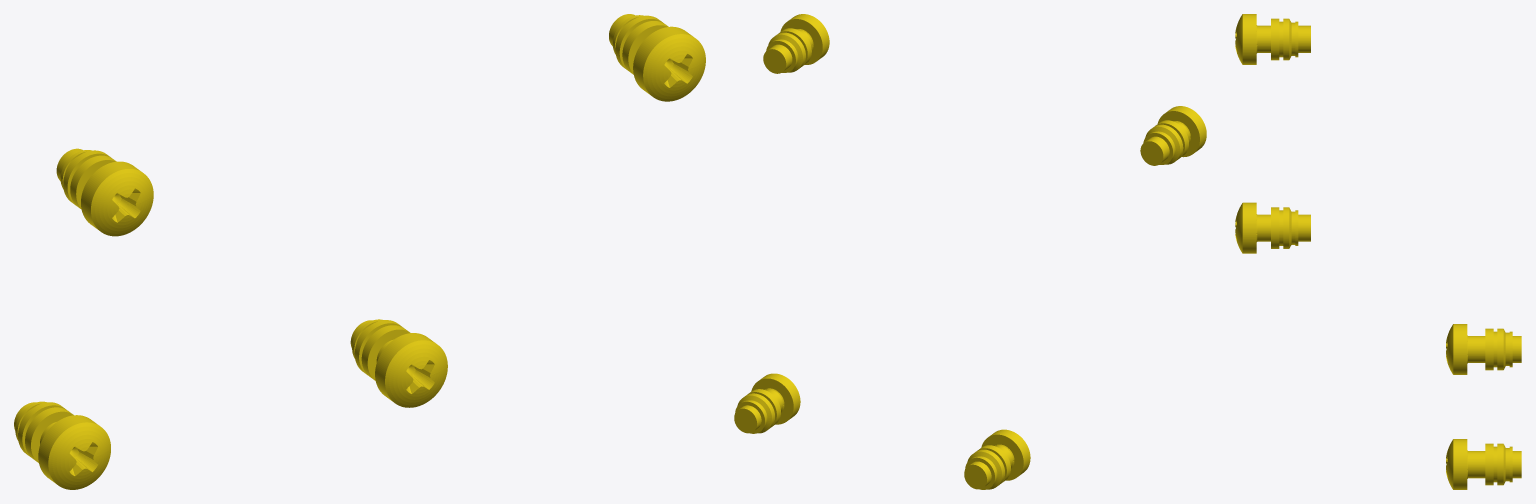
The model's file is pendulum_robot_m3_scandbit_urvij9.dae.
3 views of the same model, side by side, from view 1: azimuth 30°, elevation 25°; view 2: azimuth 150°, elevation 25°; view 3: azimuth 270°, elevation 25° (orthographic). The views are drawn at different scales.
Visible parts, largest first — view 1: node0; view 2: node0; view 3: node0.
Part boxes in pixels (<box>): node0: <box>14,14,705,489</box>; node0: <box>734,14,1206,489</box>; node0: <box>1235,14,1521,489</box>.
Bounding box in the file's own units: 0.0548 × 0.0315 × 0.0388.
